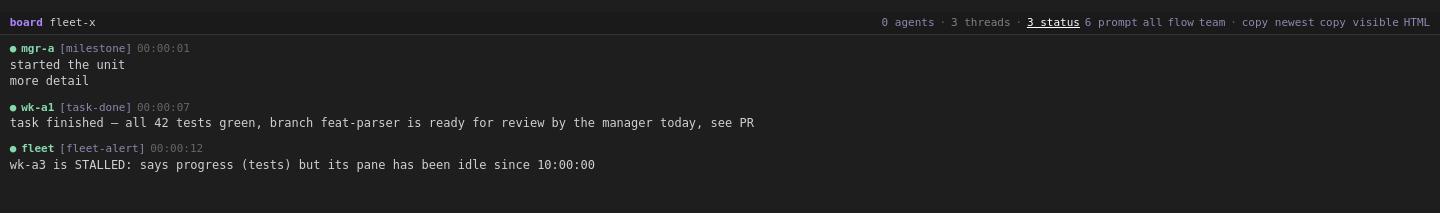
board team view (design 054 §8b) › always draws the tree: with nobody blocked it says so
The width and height of the screenshot is (1440, 213).
Step 1. Click the button "team" → click(1212, 23), box [1199,15,1225,31]
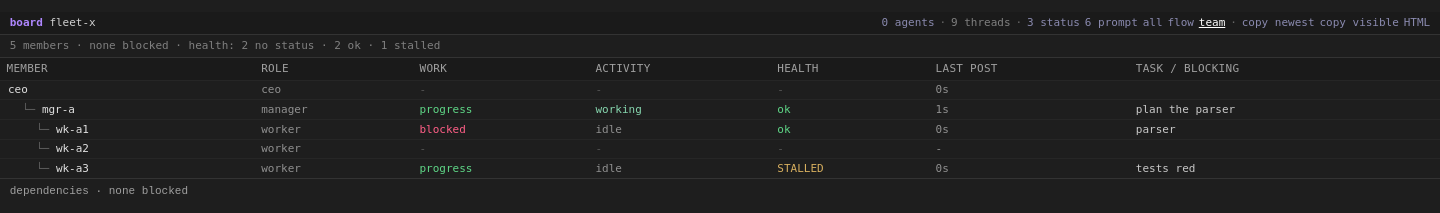
Expected: the text with test id "board-team-deps" reads "dependencies · none blocked", [10,185,188,197]
